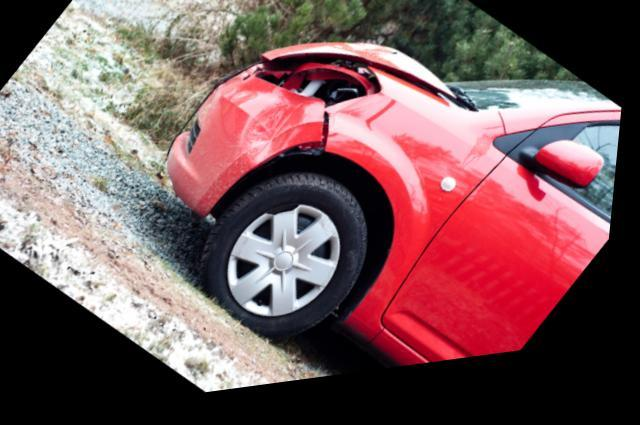dent: (244, 111, 308, 168)
dislocated part: (165, 77, 330, 225)
no part: (259, 67, 376, 111)
tire flat: (202, 176, 378, 350)
